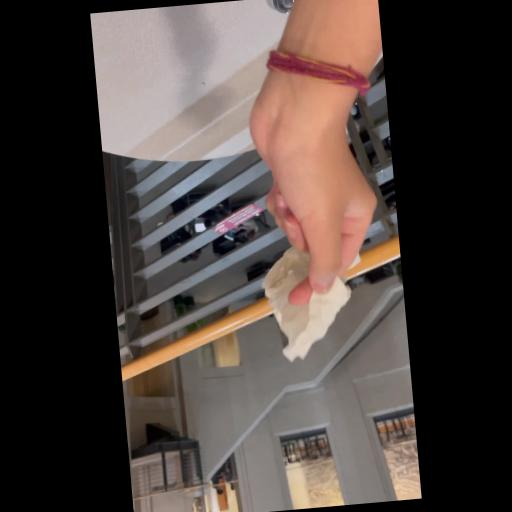napkin: (252, 224, 378, 368)
